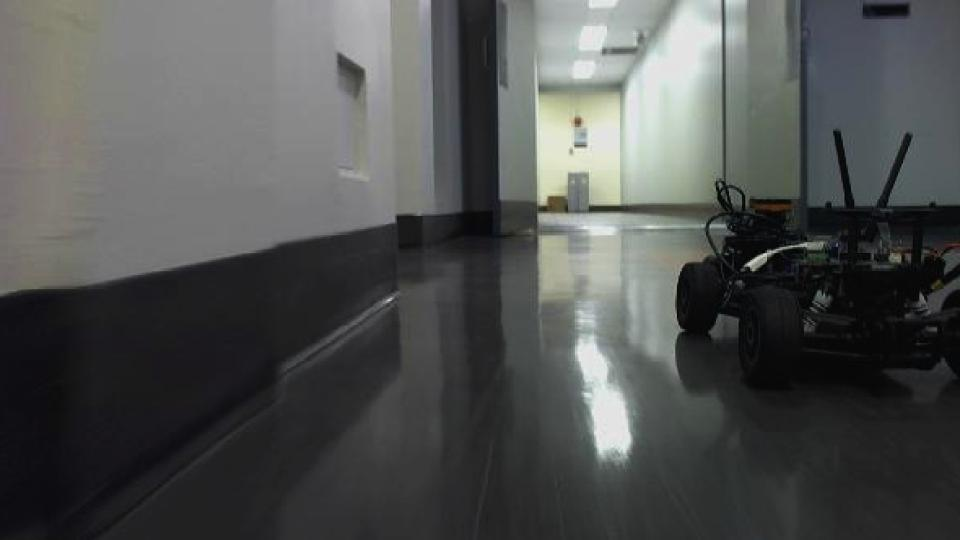car: (674, 126, 960, 391)
